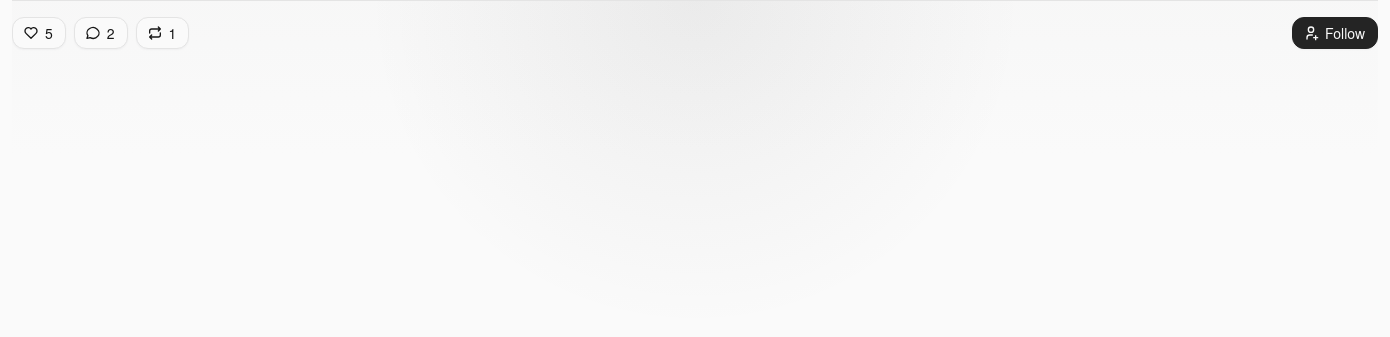
Test: feed components › opens the repost composer with a quoted preview of the original post
Click the button named "toggle repost composer" at point(162, 33), box [136,17,189,49]
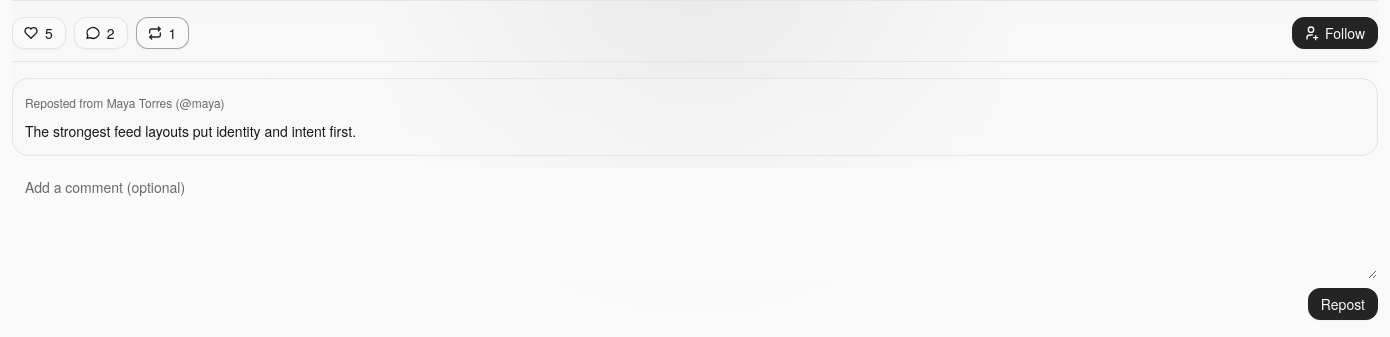
Now the text "Reposted from Maya Torres (@maya)" is shown, box [25,94,225,111]
Now the text "The strongest feed layouts put identity and intent first." is shown, box [25,121,356,141]
Click the button named "toggle repost composer" at point(162, 33), box [136,17,189,49]
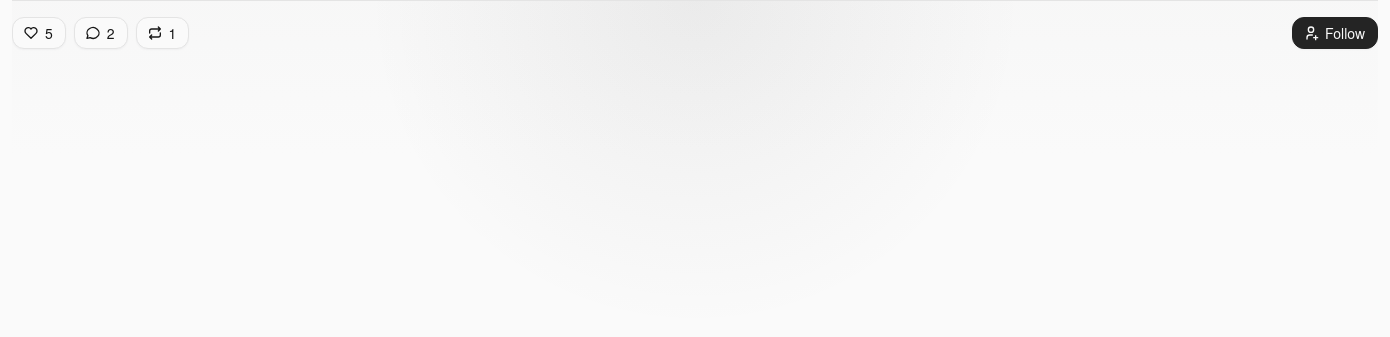
Now the text "Reposted from Maya Torres" is gone
